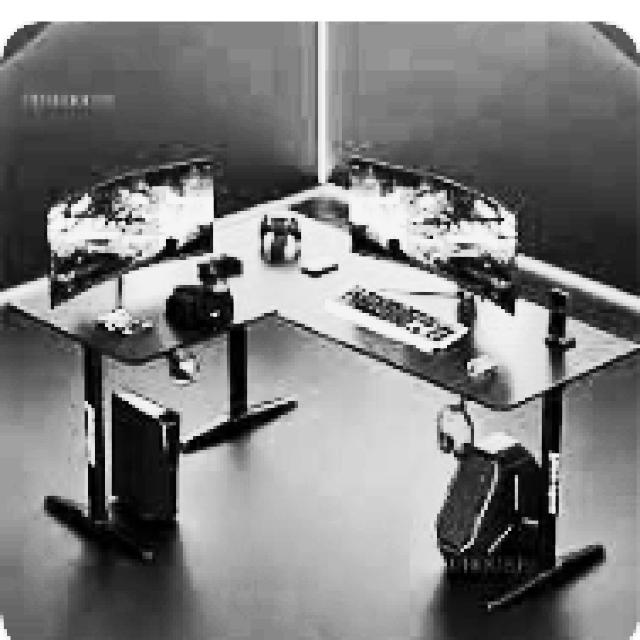table: (0, 179, 637, 636)
